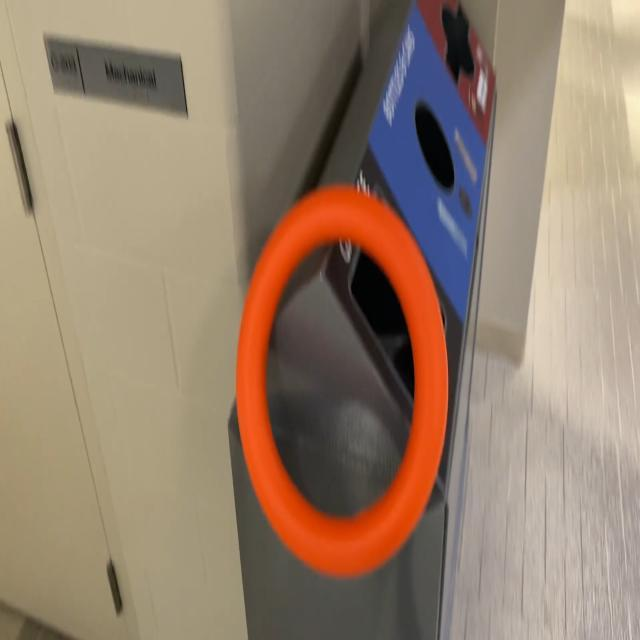note: (234, 180, 452, 582)
